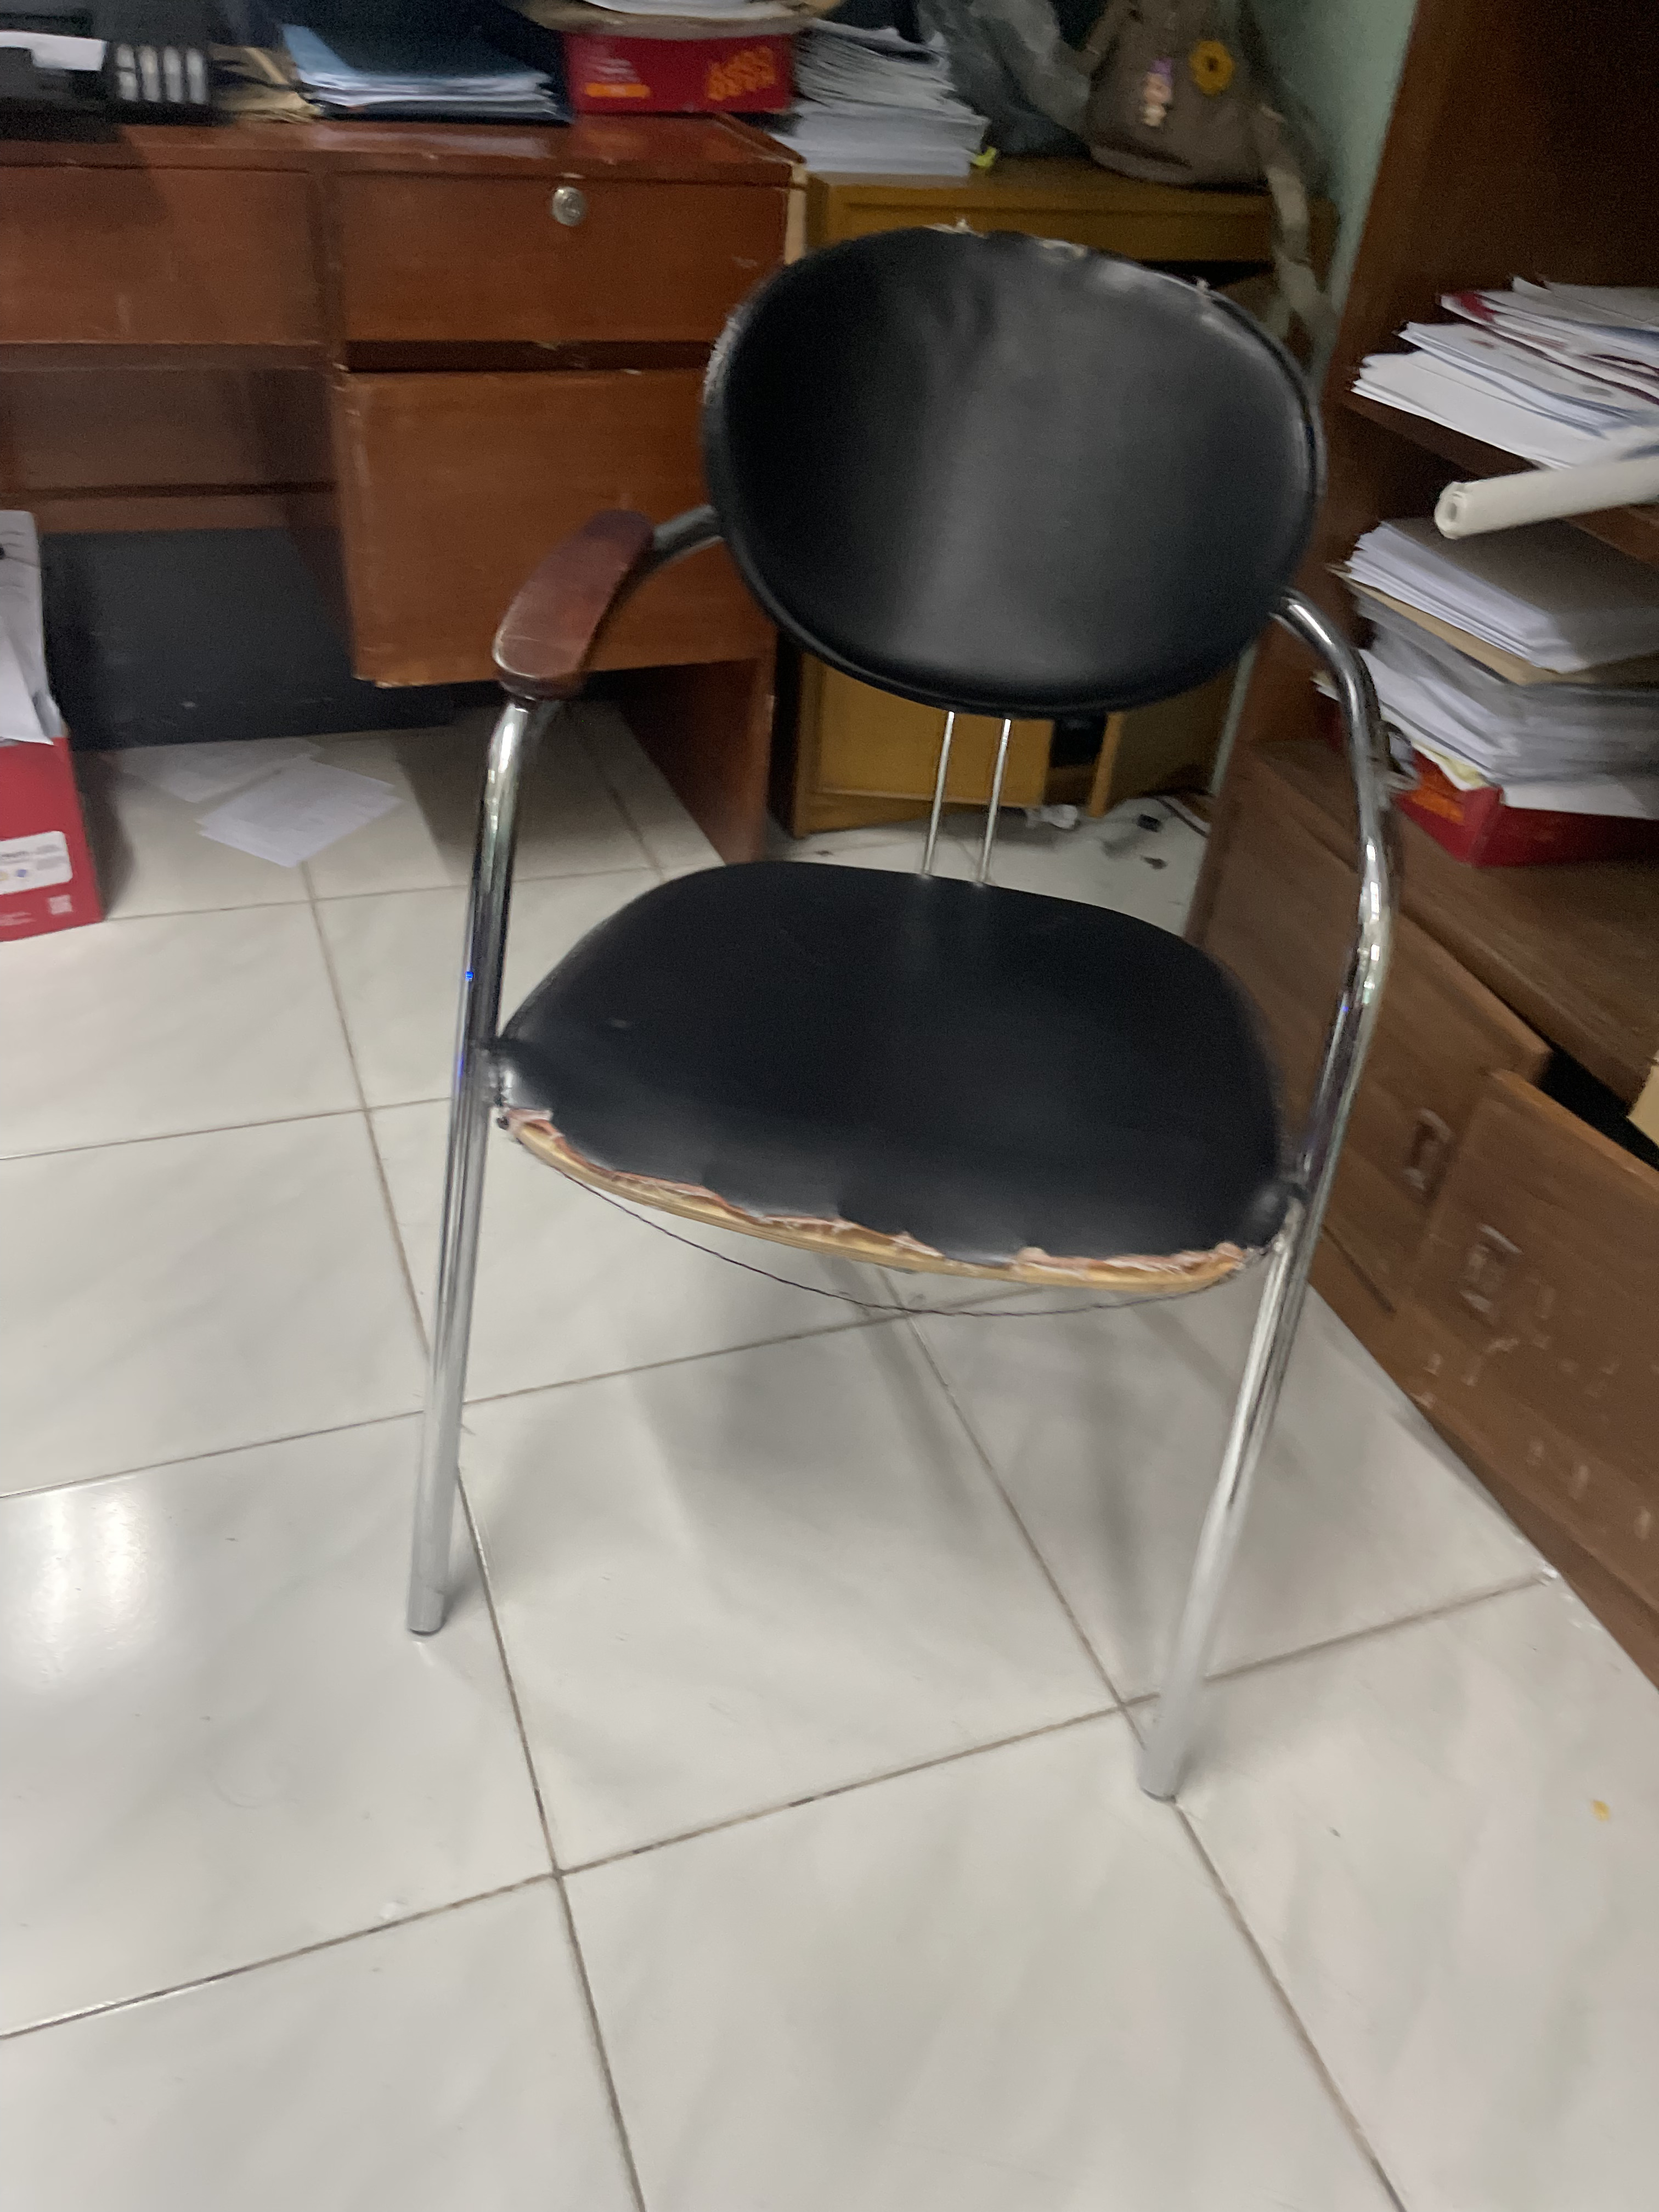chair1: (392, 226, 1412, 1808)
